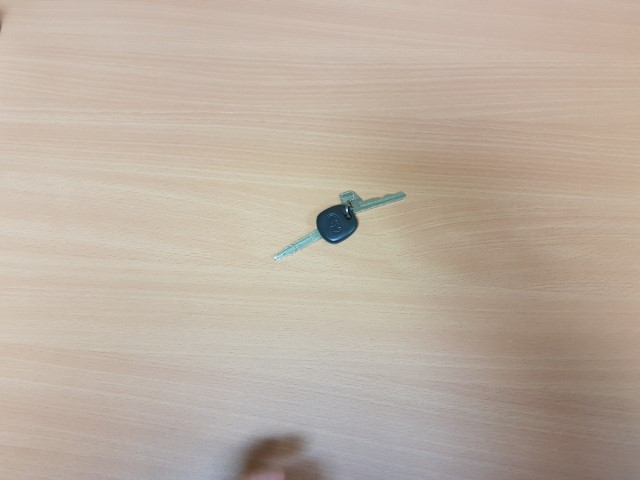key: (273, 204, 358, 263)
